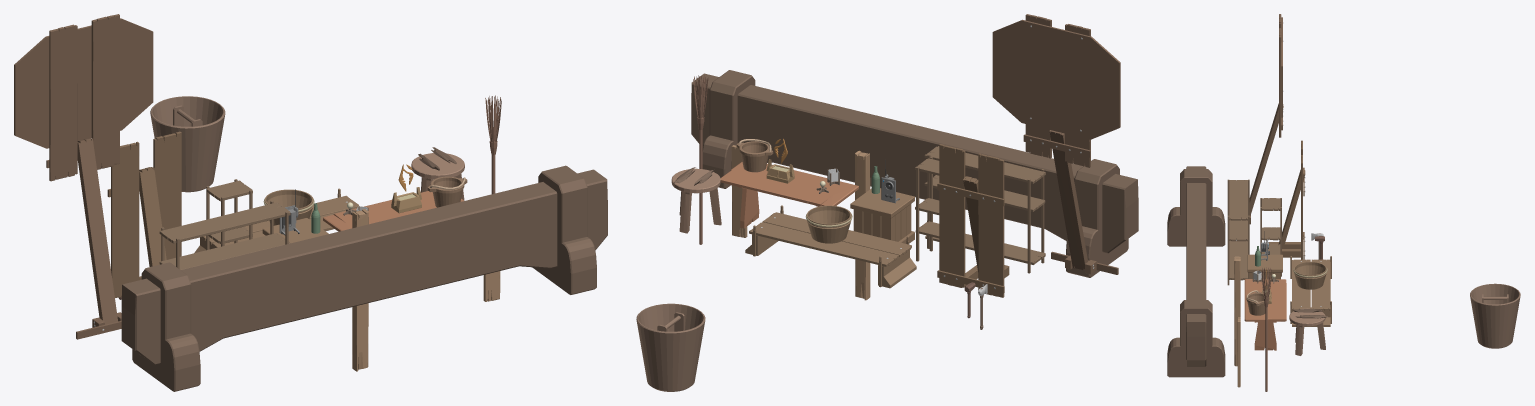
File: MixedStuff.dae
3 renders of one model, left to right at view 1: azimuth 30°, elevation 25°; view 2: azimuth 150°, elevation 25°; view 3: azimuth 270°, elevation 25°, orthographic. The views are drawn at different scales.
Visible parts, largest first — view 1: BigBarrier, WoodHoleBarrier, WoodBarrier, PeukPlug, WoodShelves, WoodShelves2, WoodenPlank2, WoodTable1, WoodBed, WoodStool1, WoodPot, WoodBucket (+3 smaller); view 2: BigBarrier, WoodHoleBarrier, WoodBarrier, PeukPlug, WoodBed, WoodTable1, WoodShelves, WoodCrate1, WoodStool1, WoodPot, WoodShelves2, WoodenPlank2 (+4 smaller); view 3: BigBarrier, PeukPlug, WoodShelves, WoodTable1, WoodBed, WoodHoleBarrier, WoodBarrier, WoodStool1, WoodShelves2, WoodPot, WoodCrate1, WoodenPlank2 (+2 smaller).
Part boxes in pixels (x1,y1,x2,y2): BigBarrier: (121,165,607,391); WoodHoleBarrier: (14,14,153,339); WoodBarrier: (107,131,181,297); PeukPlug: (150,96,225,192); WoodShelves: (159,200,290,269); WoodShelves2: (206,179,252,250); WoodenPlank2: (352,209,368,371); WoodTable1: (323,191,463,231); WoodBed: (194,188,359,253); WoodStool1: (411,153,464,200); WoodPot: (263,189,314,225); WoodBucket: (427,176,467,207); BigBarrier: (691,70,1138,277); WoodHoleBarrier: (992,14,1120,274); WoodBarrier: (937,144,1009,297); PeukPlug: (636,303,705,391); WoodBed: (745,205,916,288); WoodTable1: (720,162,858,228); WoodShelves: (924,146,1045,273); WoodCrate1: (850,188,914,243); WoodStool1: (671,168,721,233); WoodPot: (805,205,852,243); WoodShelves2: (915,157,939,261); WoodenPlank2: (855,150,870,300); BigBarrier: (1167,166,1225,377); PeukPlug: (1470,283,1520,348); WoodShelves: (1227,179,1249,285); WoodTable1: (1244,279,1286,350); WoodBed: (1290,256,1331,326); WoodHoleBarrier: (1249,14,1283,224); WoodBarrier: (1266,140,1305,259); WoodStool1: (1289,308,1325,355); WoodShelves2: (1260,198,1281,276); WoodPot: (1293,261,1327,289); WoodCrate1: (1247,254,1282,279); WoodenPlank2: (1234,256,1240,366).
Bounding box in the file's own units: 23.22 × 20.1 × 16.25.
